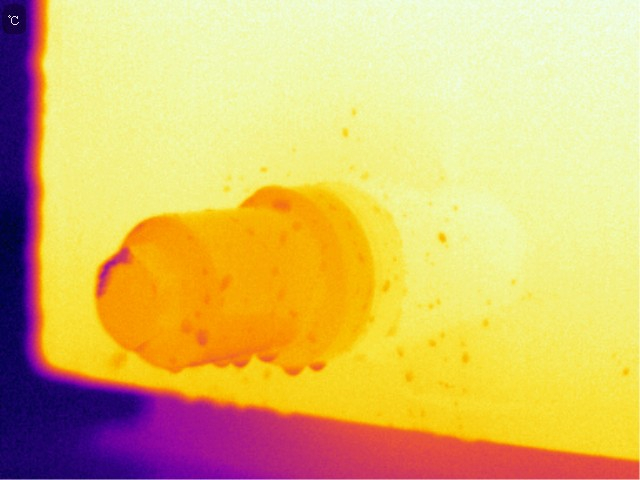Water: (213, 348, 251, 371), (256, 339, 279, 366), (192, 323, 213, 348), (284, 358, 306, 381), (175, 313, 199, 334), (270, 194, 294, 214), (307, 357, 329, 378), (348, 103, 367, 125), (218, 271, 233, 294), (460, 349, 472, 370), (167, 363, 184, 376), (339, 124, 350, 141), (436, 229, 448, 244), (405, 369, 413, 382)
